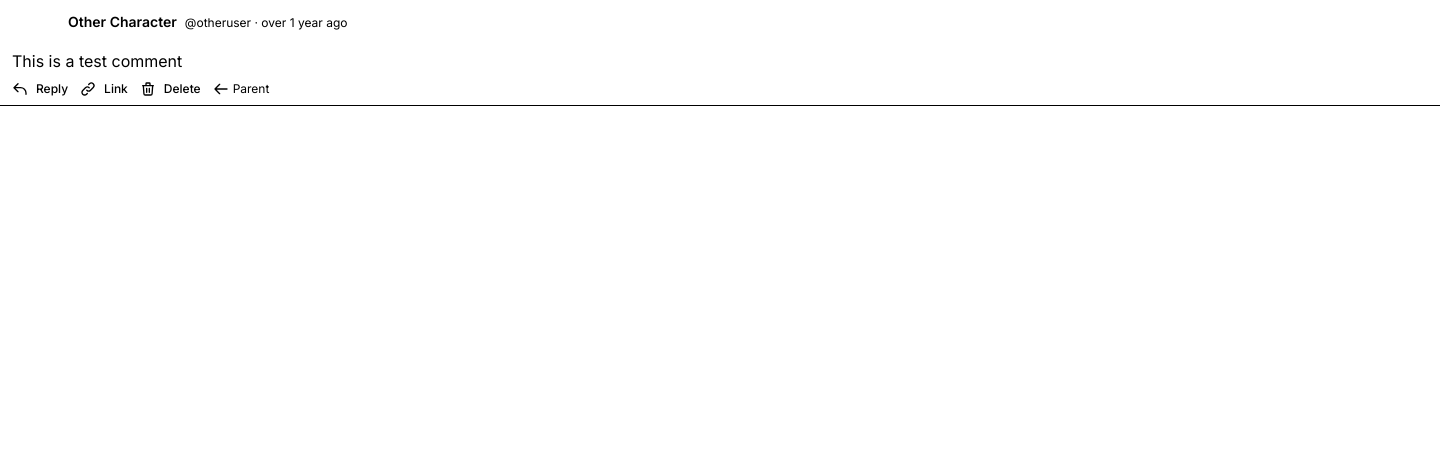
it: ThreadedComment › Reply Form › auto-selects parent comment character when parentComment is provided and user controls it
Step 1. Click the button "Reply" → (40,89), box [12,81,68,97]
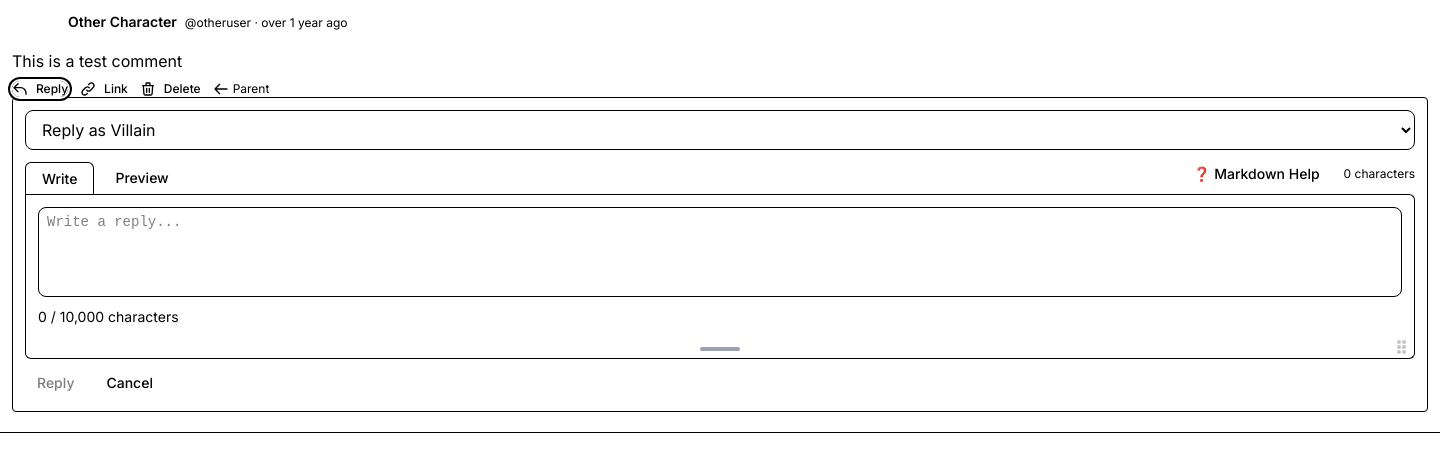
Result: the dropdown shows "Reply as Villain" at [25,110,1415,150]
